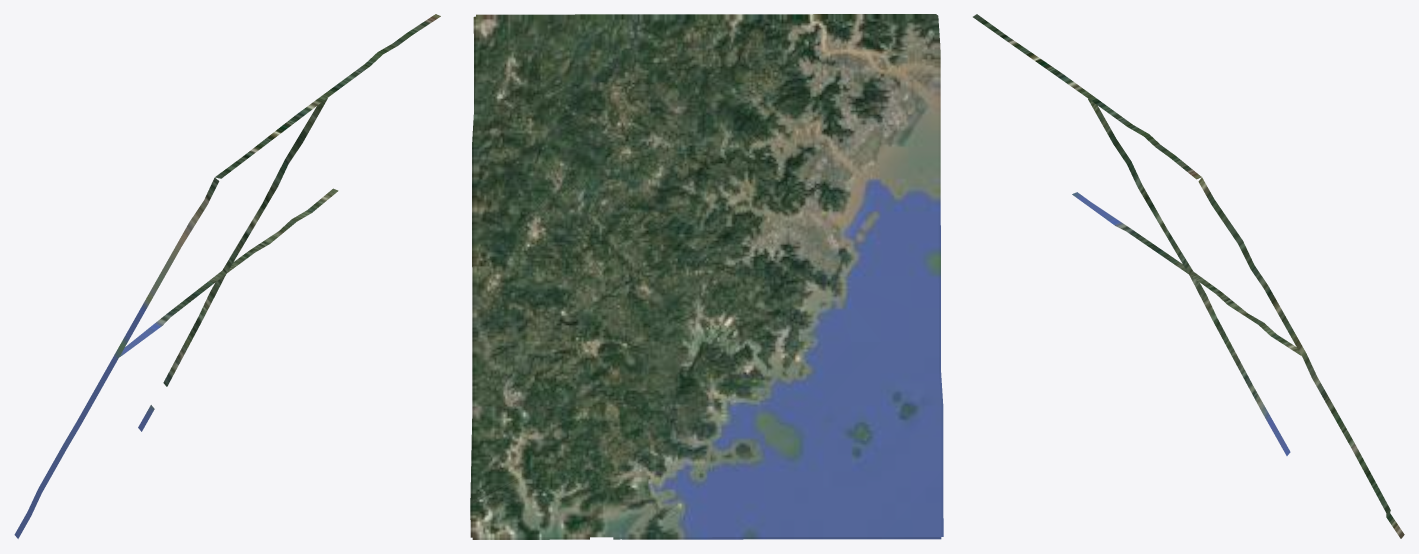
3 views of the same model, side by side, from view 1: azimuth 30°, elevation 25°; view 2: azimuth 150°, elevation 25°; view 3: azimuth 270°, elevation 25° (orthographic). The views are drawn at different scales.
Bounding box in the file's own units: 157974 × 141331 × 134348.
Materials: 1 (1 with a texture image).
